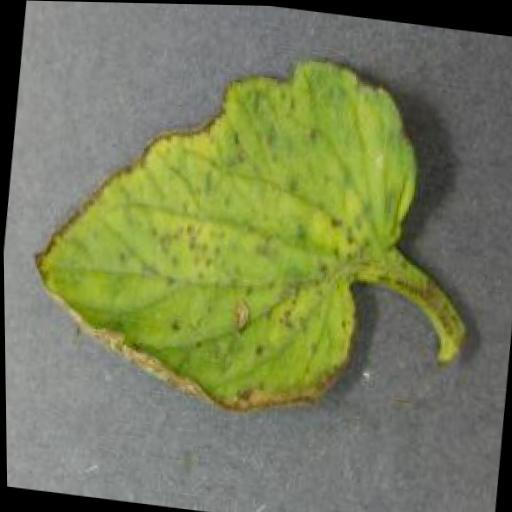Bacterial Spot: (3, 13, 501, 458)
